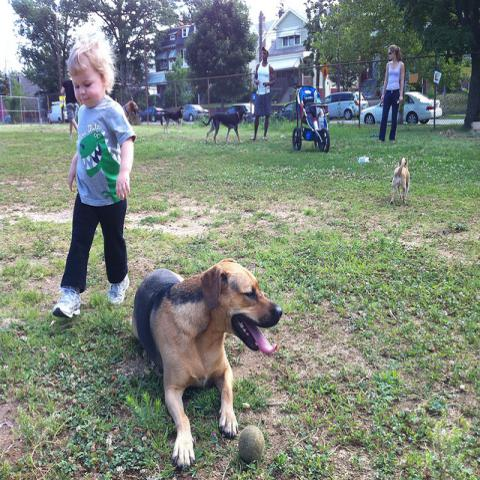car: (360, 92, 443, 124), (322, 88, 369, 120), (182, 103, 212, 121), (274, 101, 301, 120), (140, 107, 167, 123), (48, 102, 62, 124)
